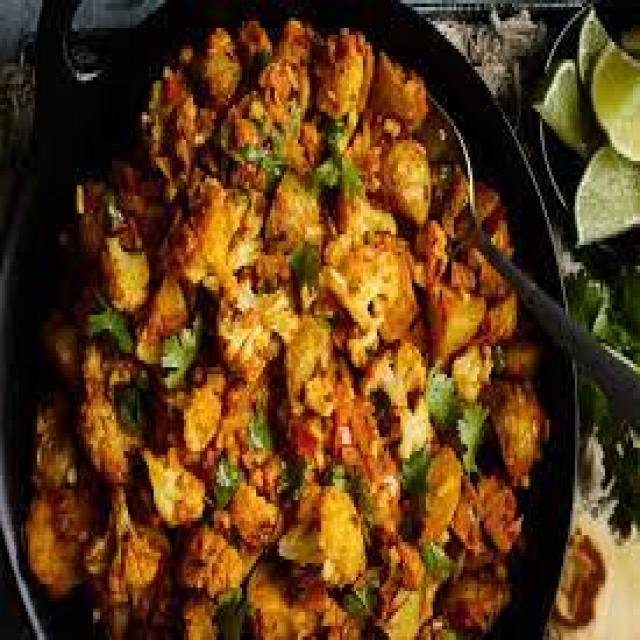Aloo Gobi: (63, 175, 291, 640)
